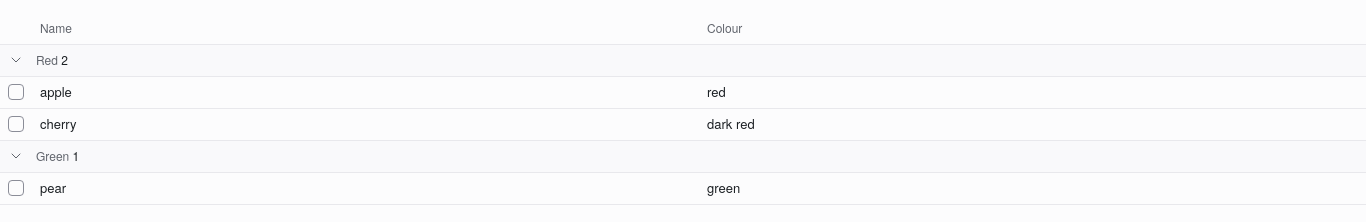
Scenario: DataTable › collapses a group from its header, and the cursor skips its rows
Click the button named "Collapse Red" at x=16, y=60, box [4, 48, 28, 72]
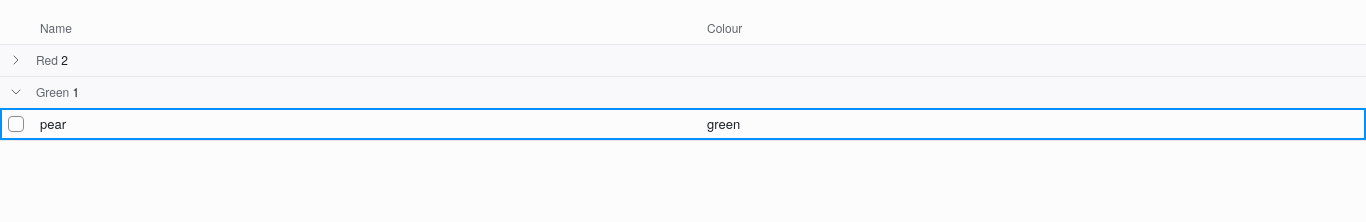
expect the row "Red 2" is shown: met, box [0, 44, 1365, 76]
expect the text "apple" is gone: met
expect the button named "Expand Red" is collapsed: met
Click the button named "Expand Red" at x=16, y=60, box [4, 48, 28, 72]
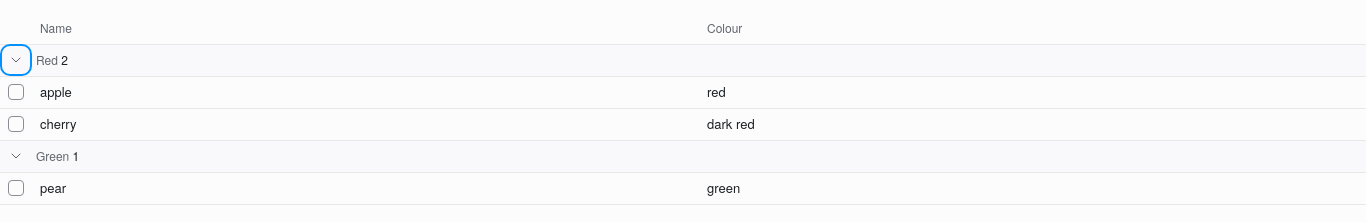
expect the text "apple" is shown: met, box [32, 76, 699, 108]
